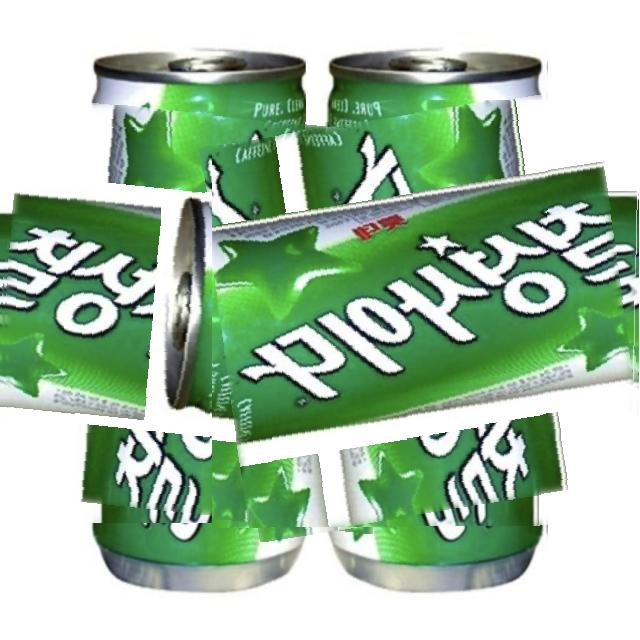recyclable: (212, 100, 640, 528), (0, 105, 403, 524)
